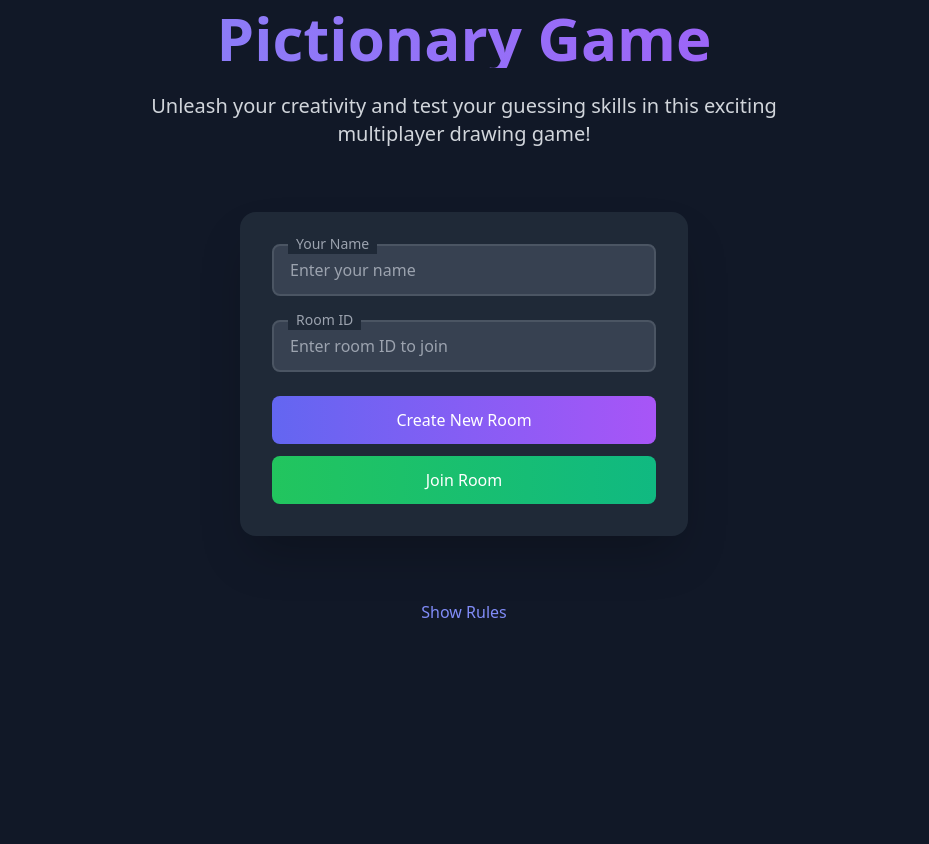
Test: Home component › toggles rules visibility
Click the button "Show Rules" at (464, 612), box 421,600 -> 507,624
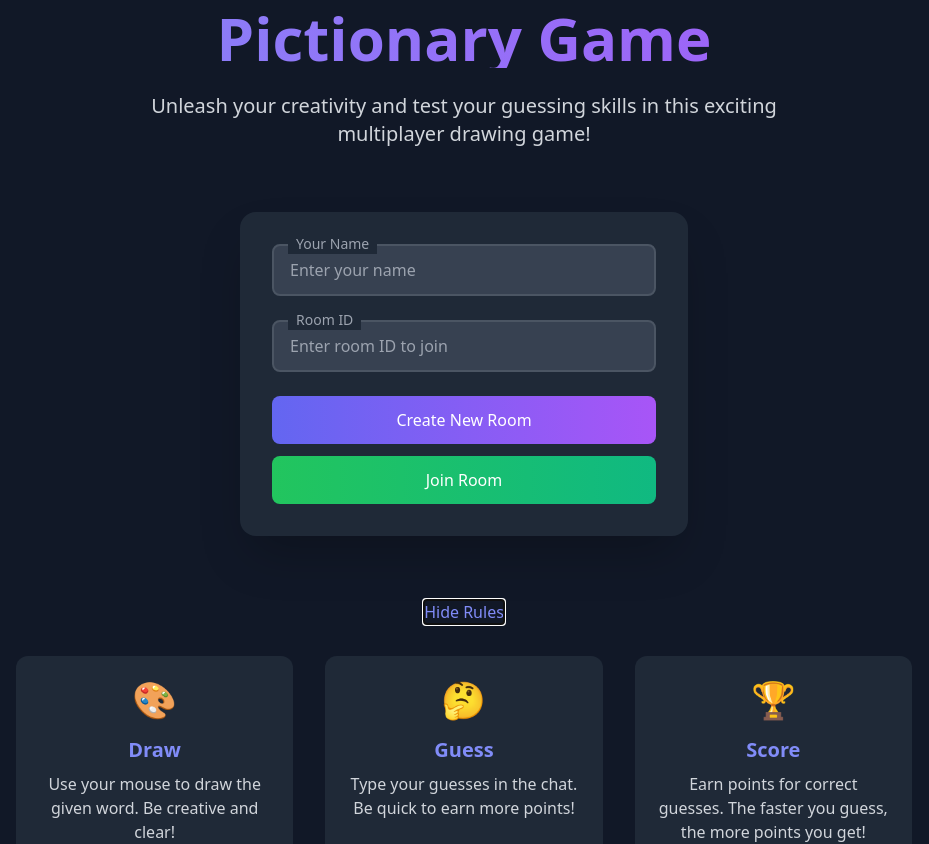
Check: the button "Hide Rules" is shown
Check: the text "Use your mouse to draw" is shown, box 48,773 -> 261,843
Click the button "Hide Rules" at (464, 612), box 424,600 -> 504,624
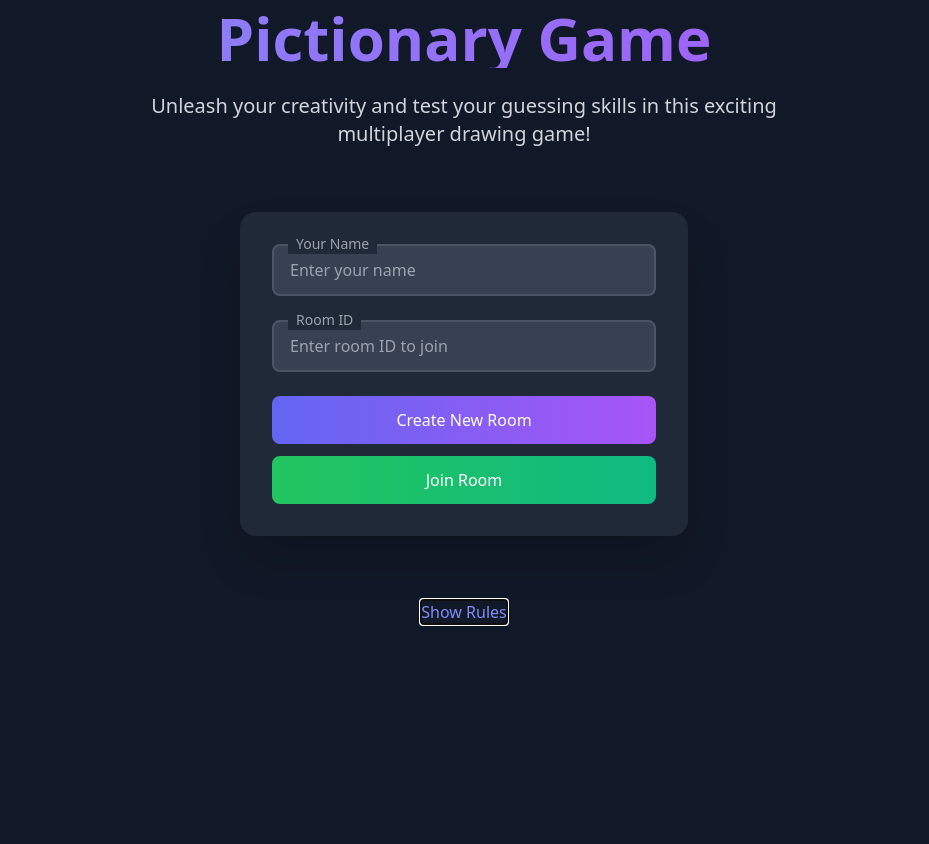
Check: the button "Show Rules" is shown, box 421,600 -> 507,624
